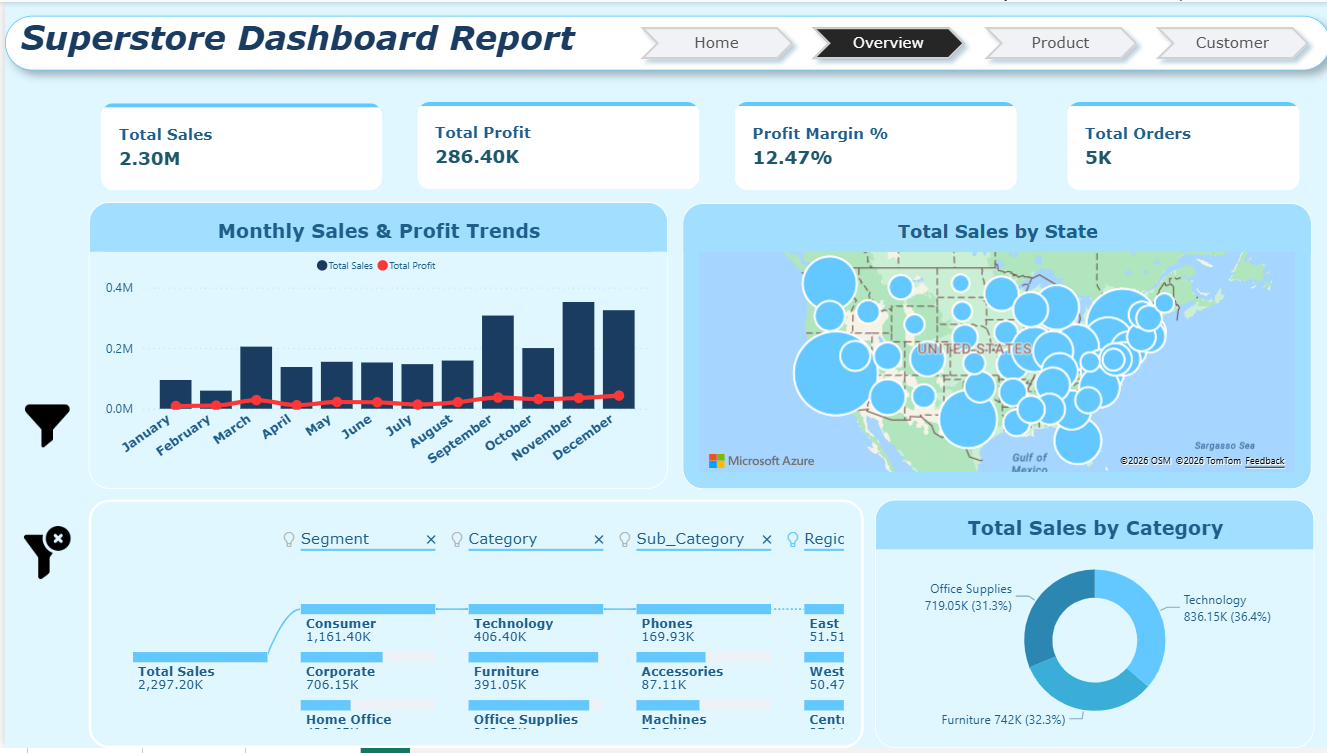

The page's visual inventory and layout, read from the dashboard file:
{"tool":"powerbi","page":{"name":"Overview ","canvas":[1280,720],"ordinal":1},"visuals":[{"type":"textbox","box":[0,13.3,1278.8,53.1],"z":0},{"type":"pageNavigator","box":[588.7,0,691.3,79.6],"z":1000},{"type":"cardVisual","fields":{"Data":["Measure.Total Sales"]},"box":[81.1,85.6,295.6,108.9],"z":2000},{"type":"cardVisual","fields":{"Data":["Measure.Total Profit"]},"box":[385.6,84.4,296.7,108.9],"z":3000},{"type":"cardVisual","fields":{"Data":["Measure.Profit Margin %"]},"box":[692.5,84,296,109.5],"z":4000},{"type":"cardVisual","fields":{"Data":["Measure.Total Orders"]},"box":[1013,84,248,109.5],"z":5000},{"type":"lineChart","title":"Monthly Sales & Profit Trends","fields":{"Category":["DIM_Order_Date.Month Name"],"Y":["Measure.Total Sales"],"Y2":["Measure.Total Profit"]},"box":[81.1,193.3,558.9,276.7],"z":6000},{"type":"donutChart","fields":{"Category":["DIM_Products.Category"],"Y":["Measure.Total Sales"]},"box":[840,480,424.3,240],"z":7000},{"type":"decompositionTreeVisual","fields":{"Analyze":["Measure.Total Sales"],"ExplainBy":["DIM_Customers.Segment","DIM_Products.Category","DIM_Products.Sub_Category","DIM_Location.Region"]},"box":[81.1,480,747.8,240],"z":8000},{"type":"azureMap","fields":{"Size":["Measure.Total Sales"],"Category":["DIM_Location.State"]},"box":[654.3,194.3,607.1,275.7],"z":9000},{"type":"image","box":[0,360,81.7,96.7],"z":10000},{"type":"actionButton","box":[0,375,81.7,68.3],"z":11000},{"type":"image","box":[0,480,81.2,102.5],"z":12000},{"type":"actionButton","title":"Clear all Slicers","box":[0,500,81.2,62.5],"z":12500}]}

Visuals, with their boxes in screenshot pixels (x1, y1, x2, y2), scaled from the page's 1280x720 canvas onto the 1327x753 screenshot:
textbox: 0, 14, 1326, 69
pageNavigator: 610, 0, 1326, 83
cardVisual - Measure.Total Sales: 84, 90, 391, 203
cardVisual - Measure.Total Profit: 400, 88, 707, 202
cardVisual - Measure.Profit Margin %: 718, 88, 1025, 202
cardVisual - Measure.Total Orders: 1050, 88, 1307, 202
"Monthly Sales & Profit Trends" lineChart: 84, 202, 664, 492
donutChart - DIM_Products.Category x Measure.Total Sales: 871, 502, 1311, 752
decompositionTreeVisual - Measure.Total Sales x DIM_Customers.Segment: 84, 502, 859, 752
azureMap - Measure.Total Sales x DIM_Location.State: 678, 203, 1308, 492
image: 0, 376, 85, 478
actionButton: 0, 392, 85, 464
image: 0, 502, 84, 609
"Clear all Slicers" actionButton: 0, 523, 84, 588
